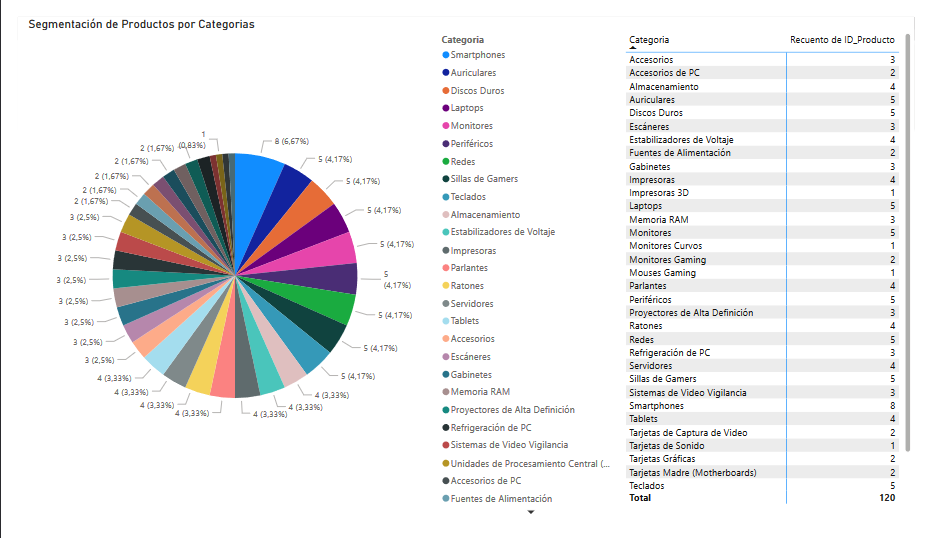

The dashboard page shown, as its layout file describes it:
{"tool":"powerbi","page":{"name":"Productos","canvas":[1280,720],"ordinal":0},"visuals":[{"type":"pieChart","title":"Segmentación de Productos por Categorias","fields":{"Category":["D_Productos.Categoria"],"Y":["CountNonNull(D_Productos.ID_Producto)"]},"box":[10,0,853.3,720],"z":0},{"type":"pivotTable","fields":{"Rows":["D_Productos.Categoria"],"Values":["CountNonNull(D_Productos.ID_Producto)"]},"box":[863.3,18.3,416.7,681.7],"z":1000}]}

Visuals, with their boxes in screenshot pixels (x1, y1, x2, y2), scaled from the page's 1280x720 canvas onto the 930x538 screenshot:
"Segmentación de Productos por Categorias" pieChart: locate(7, 0, 627, 537)
pivotTable - D_Productos.Categoria x CountNonNull(D_Productos.ID_Producto): locate(627, 14, 929, 523)
